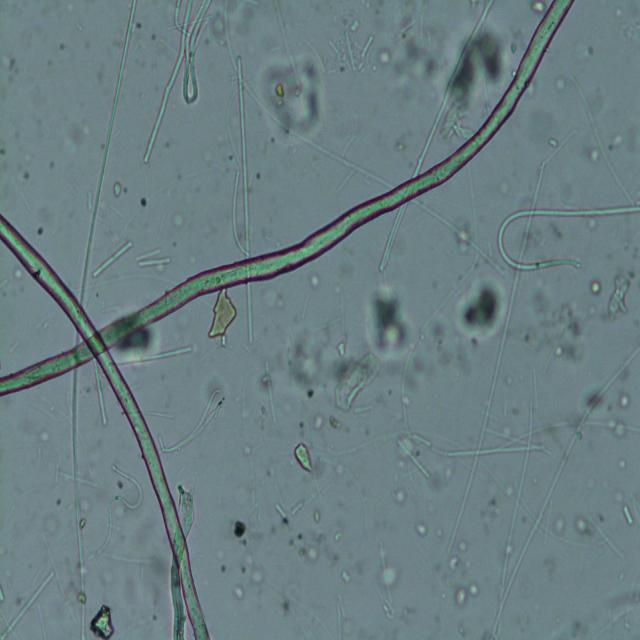Background material: (379, 312, 473, 399), (262, 49, 322, 146), (442, 37, 507, 112), (520, 286, 584, 360), (286, 500, 344, 564), (288, 323, 332, 400), (366, 285, 414, 355), (138, 538, 176, 620), (333, 352, 382, 411), (461, 283, 507, 336), (207, 289, 240, 344), (604, 274, 638, 318), (436, 537, 470, 578), (37, 507, 66, 543), (612, 386, 630, 441), (88, 603, 116, 636), (253, 284, 285, 312), (292, 438, 316, 474), (242, 548, 264, 584), (308, 412, 336, 436), (454, 582, 482, 605), (378, 560, 402, 586), (455, 222, 473, 255), (311, 264, 329, 294), (230, 513, 248, 541), (110, 173, 128, 200), (608, 124, 626, 150), (575, 513, 592, 540), (588, 274, 604, 300), (212, 545, 226, 574), (231, 580, 247, 603), (556, 516, 570, 538), (393, 486, 408, 506), (135, 194, 151, 212), (616, 450, 628, 473), (552, 73, 568, 90), (547, 134, 564, 149), (588, 145, 600, 166), (278, 596, 292, 611), (415, 524, 428, 540), (341, 568, 352, 586), (582, 214, 596, 228), (337, 334, 346, 355), (239, 444, 251, 459), (254, 168, 262, 181), (34, 227, 44, 236)
Glass filter fibre: (491, 346, 640, 639), (444, 160, 547, 555), (220, 4, 396, 195), (81, 0, 137, 303), (412, 0, 496, 178), (498, 200, 640, 272), (567, 74, 640, 207), (142, 2, 193, 165), (84, 463, 144, 564), (67, 370, 89, 637), (157, 388, 230, 455), (232, 55, 253, 260), (174, 2, 214, 104), (0, 568, 57, 636), (378, 200, 410, 277), (442, 438, 548, 461), (228, 170, 250, 258), (115, 341, 194, 365), (90, 243, 134, 279), (396, 439, 431, 479), (342, 31, 374, 71), (91, 359, 109, 427), (260, 360, 278, 426), (372, 582, 396, 620), (134, 248, 173, 270), (244, 279, 256, 346), (403, 428, 432, 452), (354, 402, 374, 420), (622, 503, 636, 528), (273, 503, 287, 520)
Microfibre: (0, 1, 576, 396), (0, 213, 212, 637)
